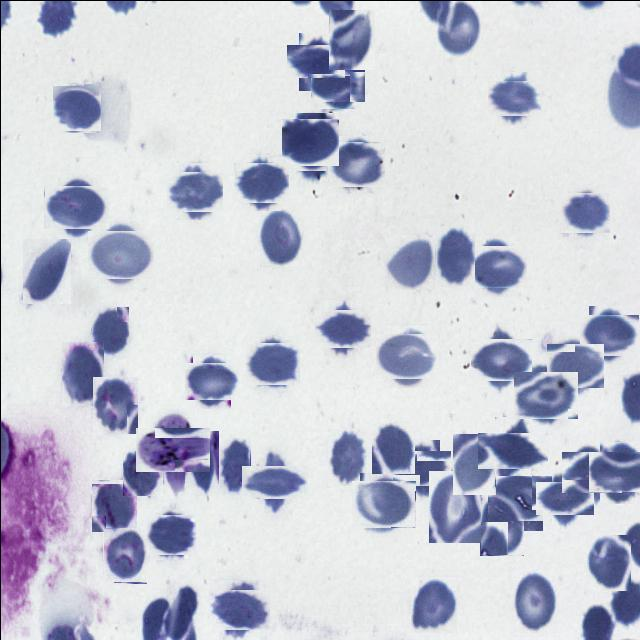red blood cell: (428, 470, 480, 542), (91, 225, 149, 282), (356, 476, 412, 532), (22, 238, 70, 303), (516, 367, 572, 422), (492, 470, 546, 526), (379, 329, 434, 383), (48, 180, 104, 233), (486, 423, 539, 478), (284, 114, 336, 168), (328, 9, 374, 69), (329, 138, 382, 190), (384, 234, 434, 289), (512, 570, 556, 632), (474, 333, 526, 385), (61, 341, 103, 405), (91, 376, 137, 434), (471, 240, 522, 292), (452, 433, 495, 494), (566, 447, 617, 498), (213, 584, 264, 635), (548, 340, 600, 390), (410, 576, 456, 632), (479, 497, 523, 555), (584, 310, 634, 360), (248, 456, 298, 506), (102, 526, 146, 582), (586, 534, 630, 590), (593, 446, 640, 498), (90, 479, 136, 532), (259, 208, 301, 266), (435, 226, 474, 287), (248, 338, 296, 387), (236, 158, 284, 206), (314, 57, 362, 105), (170, 167, 218, 214), (318, 304, 366, 351), (327, 428, 366, 485), (52, 84, 99, 131), (398, 444, 444, 492), (371, 422, 414, 473), (184, 430, 218, 494), (188, 358, 234, 404), (541, 475, 587, 521), (292, 38, 338, 84), (492, 75, 537, 120), (216, 437, 250, 496), (90, 306, 128, 357), (562, 190, 606, 234), (148, 512, 192, 556), (122, 450, 162, 495)
trophozoite: (142, 418, 202, 478)
